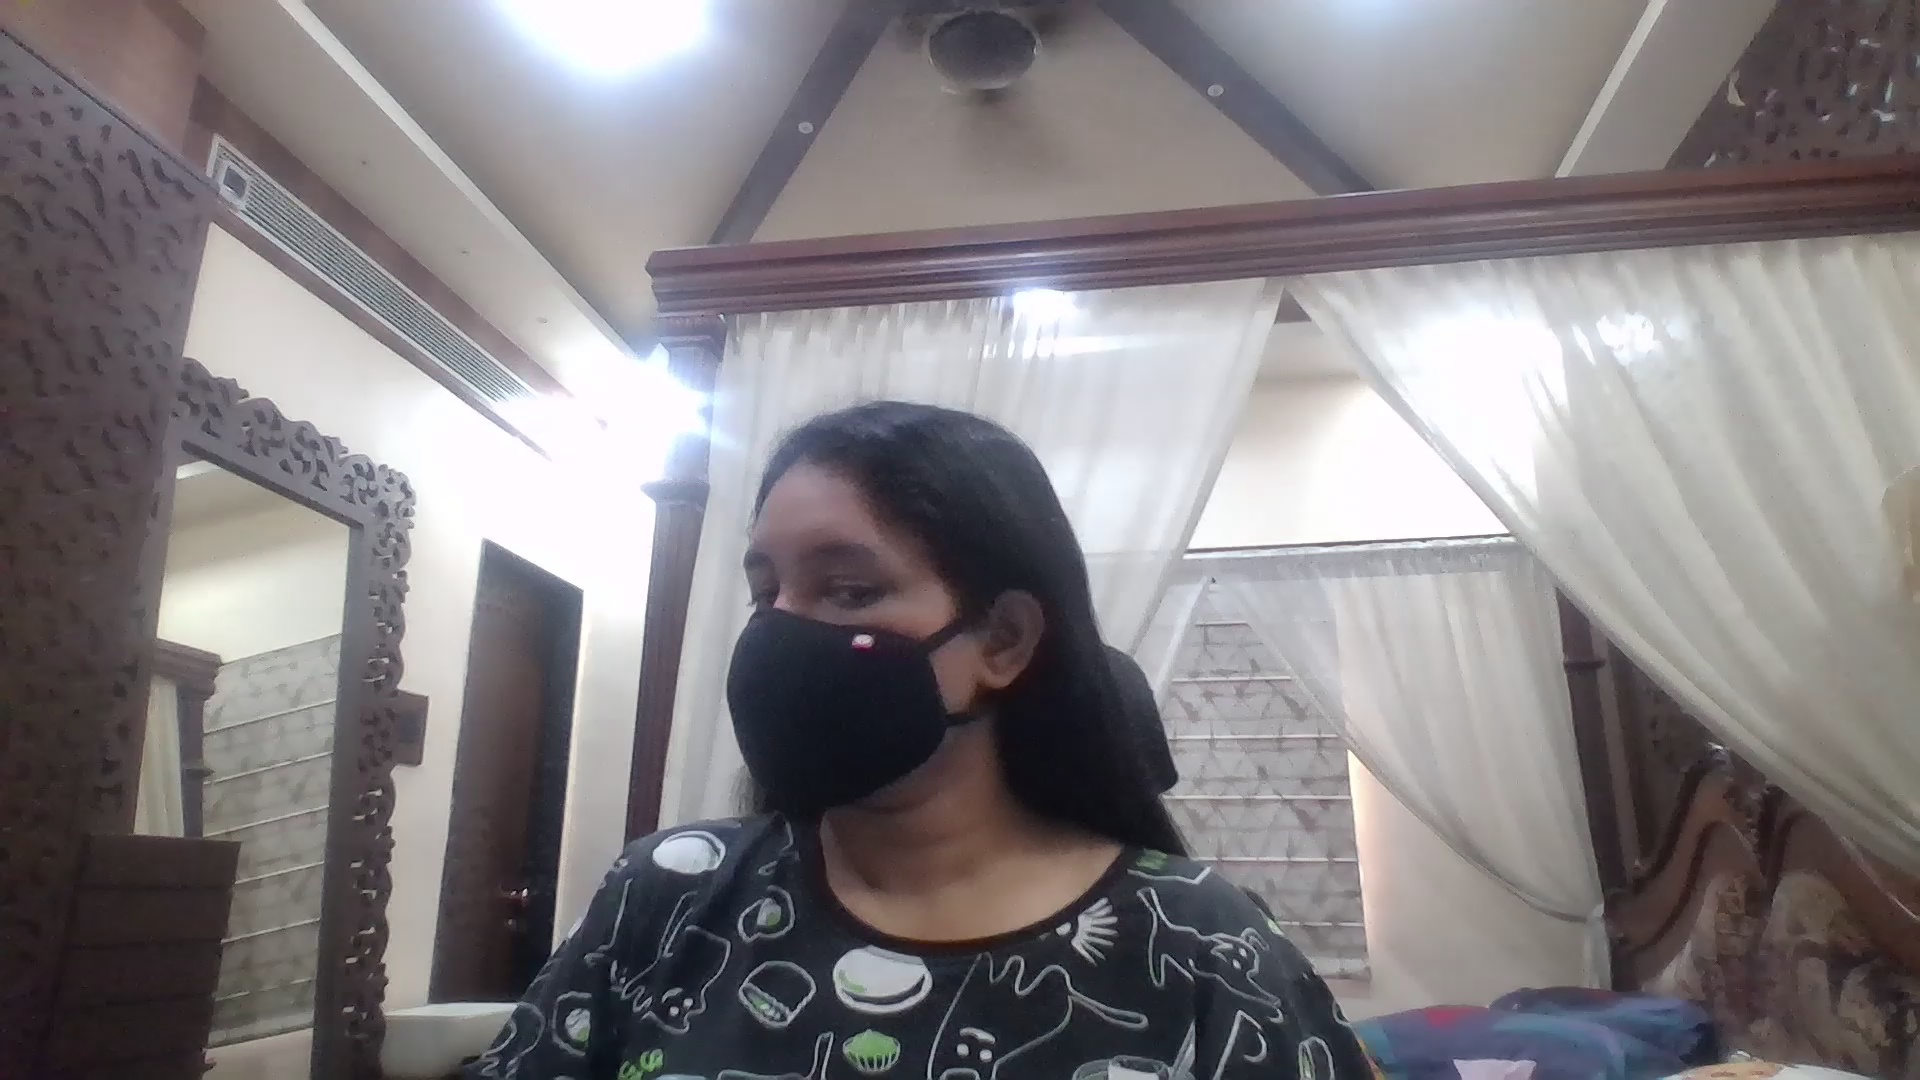Mask: (725, 609, 945, 828)
